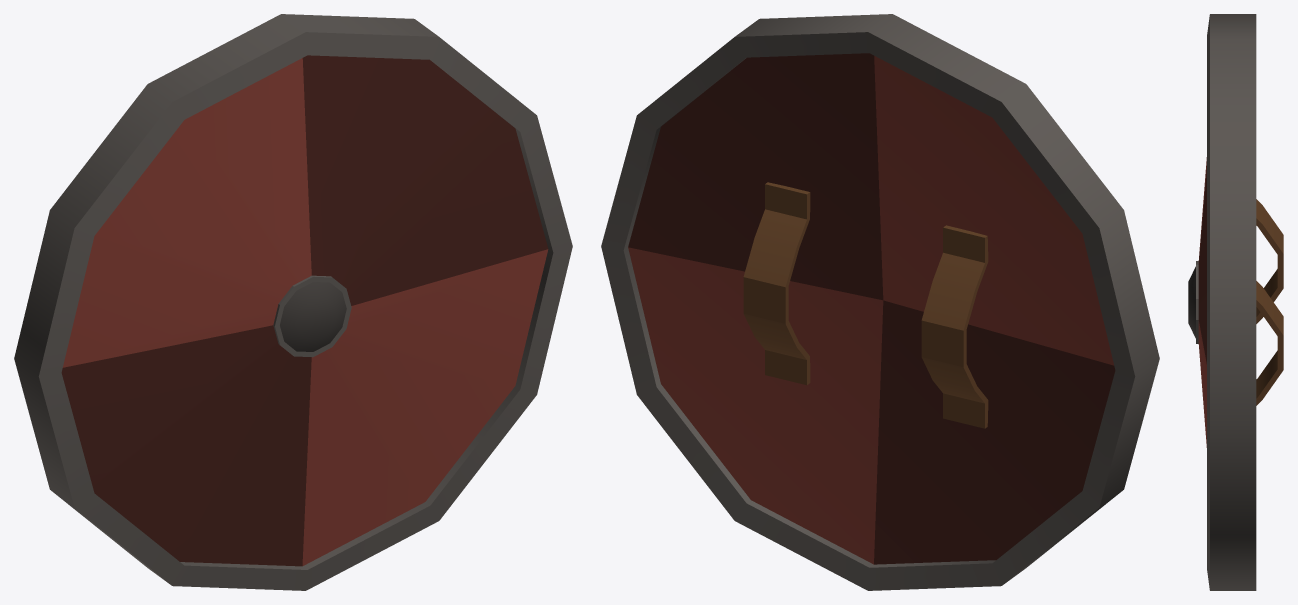
The model's file is Round Shield_Red.glb.
The picture shows the model from 3 angles, left to right: view 1: azimuth 30°, elevation 25°; view 2: azimuth 150°, elevation 25°; view 3: azimuth 270°, elevation 25°; orthographic projection. The views are drawn at different scales.
Parts seen in each view (by area): view 1: Round Shield_Red; view 2: Round Shield_Red; view 3: Round Shield_Red.
Boxes of the visible parts, x1,y1,x2,y2 form: Round Shield_Red: [14, 14, 572, 590]; Round Shield_Red: [601, 14, 1159, 590]; Round Shield_Red: [1188, 14, 1283, 590].
Bounding box in the file's own units: 0.6 × 0.6 × 0.0987.
1 material, 1 textured.
